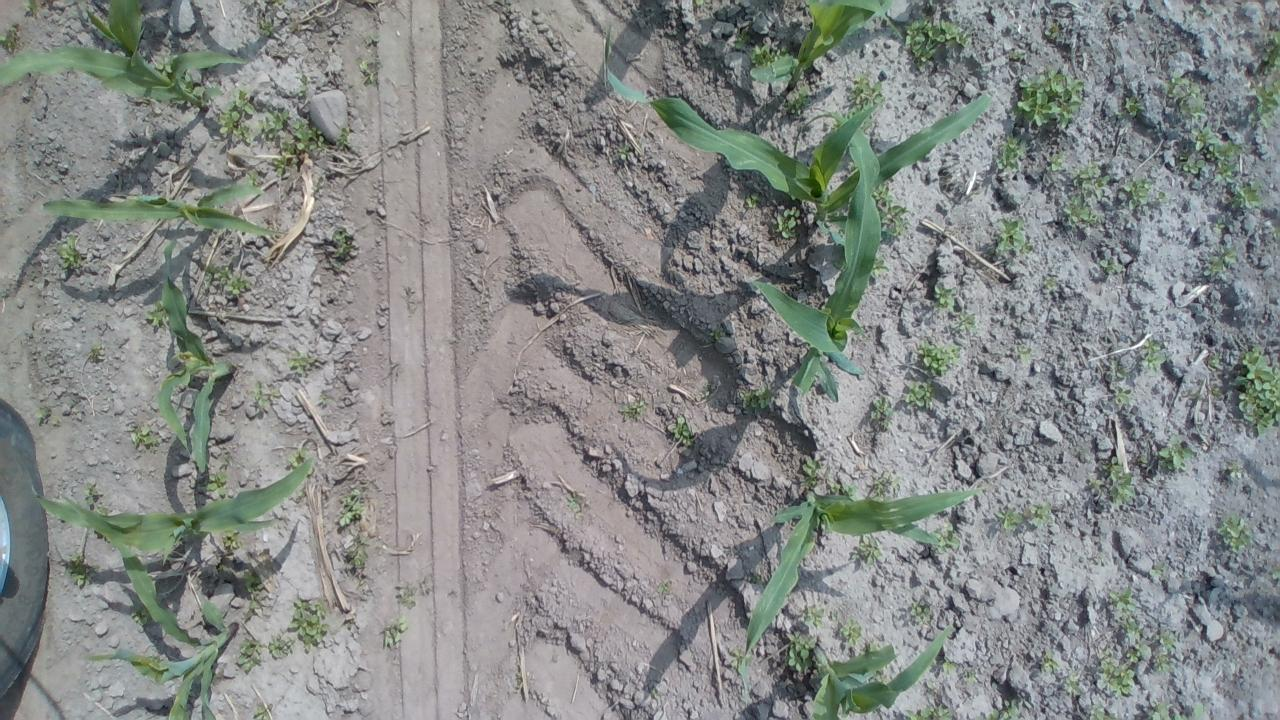Maize: (598, 23, 994, 251), (736, 485, 989, 700), (746, 109, 880, 402), (69, 495, 236, 720), (30, 463, 312, 567), (0, 0, 249, 114), (155, 235, 234, 478), (44, 180, 284, 238), (810, 624, 949, 720), (790, 0, 909, 86)
Weeds: (1016, 64, 1086, 130), (1233, 344, 1280, 434), (903, 16, 971, 71), (1180, 127, 1242, 185), (1096, 642, 1146, 696), (1157, 70, 1207, 121), (872, 182, 912, 242), (1088, 454, 1135, 505), (216, 88, 255, 144), (847, 75, 886, 130), (288, 600, 328, 652), (992, 216, 1034, 257), (914, 338, 960, 375), (1072, 160, 1112, 201), (1248, 79, 1280, 130), (1108, 588, 1140, 639), (1216, 511, 1253, 553), (204, 262, 252, 294), (1158, 432, 1194, 474), (285, 118, 325, 154), (182, 72, 222, 106), (786, 629, 815, 674), (1148, 699, 1207, 720), (995, 135, 1026, 174), (748, 42, 791, 68), (736, 384, 772, 414), (1062, 195, 1096, 226), (1202, 246, 1237, 276), (1124, 174, 1153, 210), (339, 487, 365, 526), (256, 109, 288, 140), (904, 378, 936, 409), (771, 207, 800, 240), (239, 570, 264, 608), (870, 397, 897, 432), (246, 381, 280, 408), (1261, 27, 1280, 75), (802, 605, 838, 630), (64, 554, 92, 586), (784, 83, 810, 117), (345, 533, 371, 567), (1230, 182, 1264, 208), (1142, 338, 1165, 376), (850, 538, 880, 567), (930, 524, 960, 553), (56, 235, 82, 268), (128, 422, 160, 448), (238, 638, 262, 672), (906, 703, 954, 720), (384, 616, 408, 648), (332, 225, 354, 258), (838, 617, 863, 646), (672, 415, 695, 446), (932, 284, 957, 312), (984, 700, 1018, 720), (290, 448, 314, 476), (286, 350, 314, 374), (728, 647, 751, 676), (1116, 96, 1146, 118), (146, 300, 170, 327), (994, 509, 1024, 530), (268, 636, 295, 659), (802, 456, 820, 490), (205, 472, 228, 498), (1026, 503, 1052, 526), (1038, 647, 1060, 674), (872, 477, 898, 499), (952, 312, 978, 334), (620, 398, 648, 418), (1088, 703, 1118, 720), (0, 22, 18, 50), (1112, 385, 1136, 406), (910, 600, 930, 624), (869, 255, 891, 276), (1063, 672, 1082, 696), (1100, 256, 1124, 274), (359, 61, 376, 86), (154, 55, 174, 76), (1045, 150, 1064, 172), (221, 529, 241, 549), (1152, 651, 1170, 673), (132, 605, 152, 624), (1158, 630, 1176, 650), (1108, 360, 1126, 380), (1014, 344, 1034, 362), (829, 111, 848, 129), (399, 590, 416, 610), (336, 126, 350, 150), (272, 153, 286, 176), (252, 704, 272, 720), (258, 16, 274, 36), (744, 192, 762, 209), (1226, 462, 1244, 479), (940, 658, 959, 674), (733, 31, 750, 48), (88, 344, 106, 360), (310, 175, 326, 193), (84, 480, 100, 497), (858, 642, 878, 655), (842, 484, 858, 500), (296, 78, 310, 96), (1045, 22, 1060, 38), (832, 255, 848, 270), (245, 168, 258, 186), (364, 32, 383, 44), (618, 144, 632, 160), (34, 405, 50, 418), (95, 505, 112, 516), (1009, 50, 1024, 62), (847, 160, 857, 178), (1208, 352, 1220, 367), (709, 328, 726, 338), (877, 674, 891, 686), (1044, 276, 1056, 290), (144, 654, 159, 665), (1210, 385, 1222, 398), (1150, 565, 1164, 576), (1270, 564, 1280, 579), (700, 384, 711, 397), (749, 574, 762, 584), (965, 672, 978, 682), (1156, 191, 1167, 202), (830, 482, 840, 494), (656, 583, 668, 593), (1136, 454, 1148, 464), (292, 488, 305, 497), (22, 0, 32, 11), (1214, 222, 1226, 231), (1271, 226, 1280, 238), (318, 395, 328, 405), (100, 534, 111, 543), (272, 0, 286, 7), (568, 499, 576, 509), (692, 0, 704, 6)
